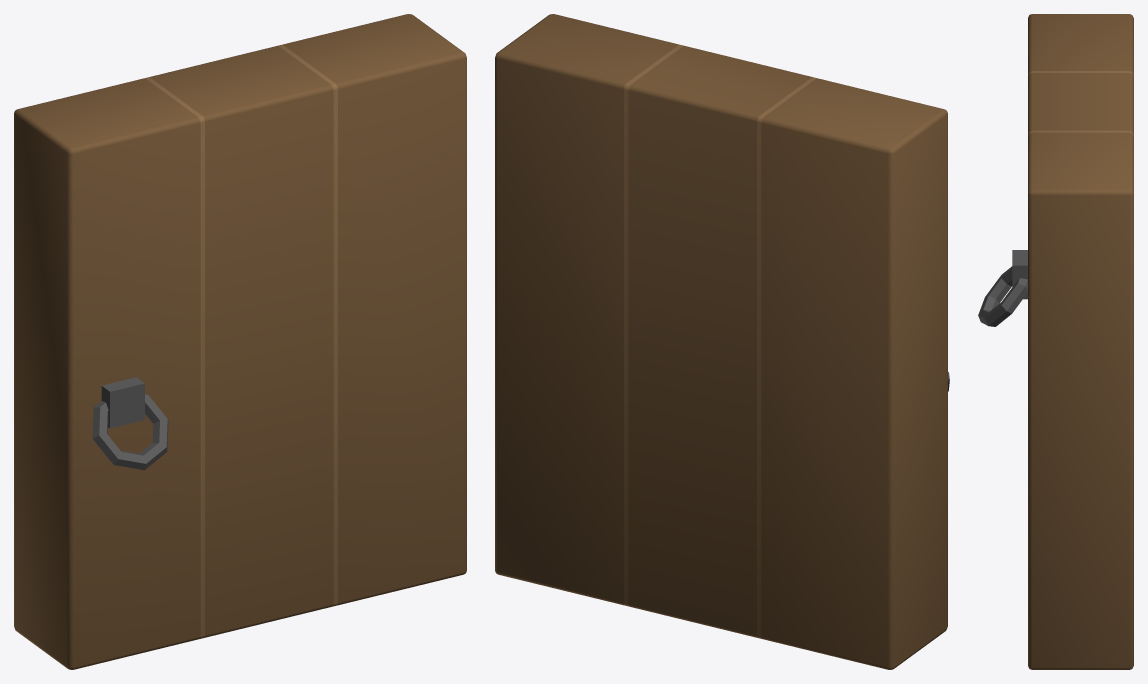
The model's file is Door_04.fbx.
3 renders of one model, left to right at view 1: azimuth 30°, elevation 25°; view 2: azimuth 150°, elevation 25°; view 3: azimuth 270°, elevation 25°, orthographic. The views are drawn at different scales.
Parts seen in each view (by area): view 1: Door_04; view 2: Door_04; view 3: Door_04.
Part boxes in pixels (x1,y1,x2,y2): Door_04: [14, 14, 466, 669]; Door_04: [495, 14, 949, 669]; Door_04: [978, 14, 1133, 669].
Size of the model in its own units: 1.6 by 2 by 0.5878.
